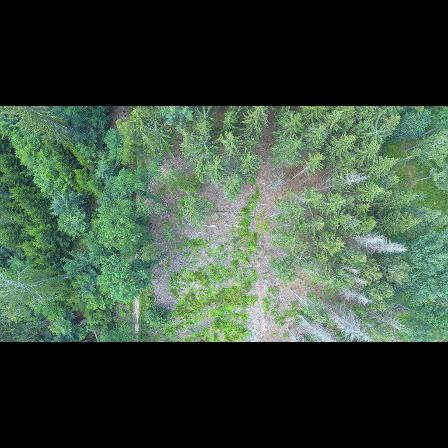Dead: (319, 299, 368, 337), (298, 309, 338, 343), (363, 238, 411, 257), (339, 288, 373, 307), (347, 230, 388, 245), (339, 172, 370, 187), (335, 259, 361, 274), (350, 276, 370, 287)
